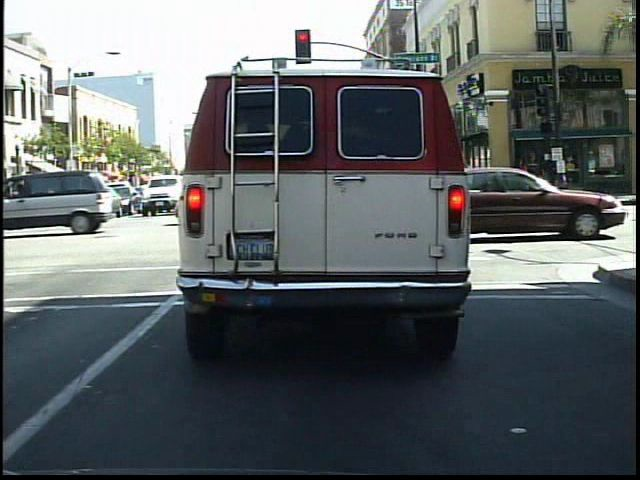person: (538, 152, 562, 206), (513, 156, 533, 202)
